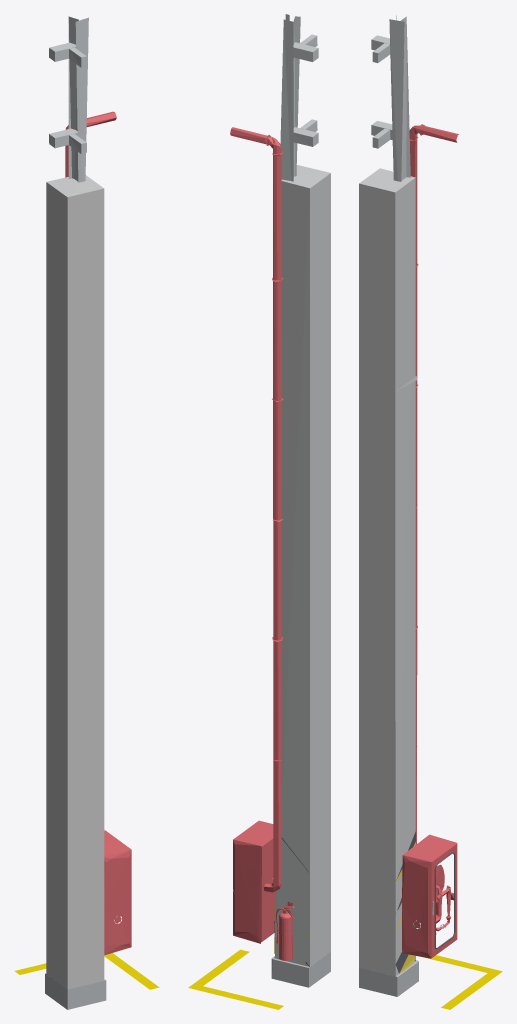
The model's file is galpao-pilar-hidrante.glb.
The picture shows the model from 3 angles, left to right: view 1: azimuth 30°, elevation 25°; view 2: azimuth 150°, elevation 25°; view 3: azimuth 330°, elevation 25°; orthographic projection.
Visible parts, largest first — view 1: #e6e9eb, #a3abb1, #c8262b, #8f979d, #e8b800; view 2: #e6e9eb, #c8262b, #a3abb1, #8f979d, #e8b800, #c8262b_1; view 3: #e6e9eb, #c8262b, #a3abb1, #8f979d, #e8b800, #202326.
Part boxes in pixels (left/top/right/bottom): #e6e9eb: left=46, top=175, right=104, bottom=989; #a3abb1: left=49, top=16, right=88, bottom=182; #c8262b: left=65, top=111, right=131, bottom=955; #8f979d: left=45, top=973, right=106, bottom=1009; #e8b800: left=14, top=953, right=159, bottom=989; #e6e9eb: left=275, top=165, right=330, bottom=966; #c8262b: left=230, top=127, right=283, bottom=943; #a3abb1: left=280, top=14, right=318, bottom=181; #8f979d: left=271, top=952, right=330, bottom=987; #e8b800: left=188, top=949, right=283, bottom=1009; #c8262b_1: left=276, top=901, right=294, bottom=960; #e6e9eb: left=359, top=168, right=415, bottom=976; #c8262b: left=402, top=124, right=458, bottom=958; #a3abb1: left=371, top=15, right=417, bottom=390; #8f979d: left=359, top=960, right=418, bottom=996; #e8b800: left=422, top=955, right=502, bottom=1009; #202326: left=434, top=852, right=455, bottom=949.
Bounding box in the file's own units: 0.95 × 9.6 × 0.95.
